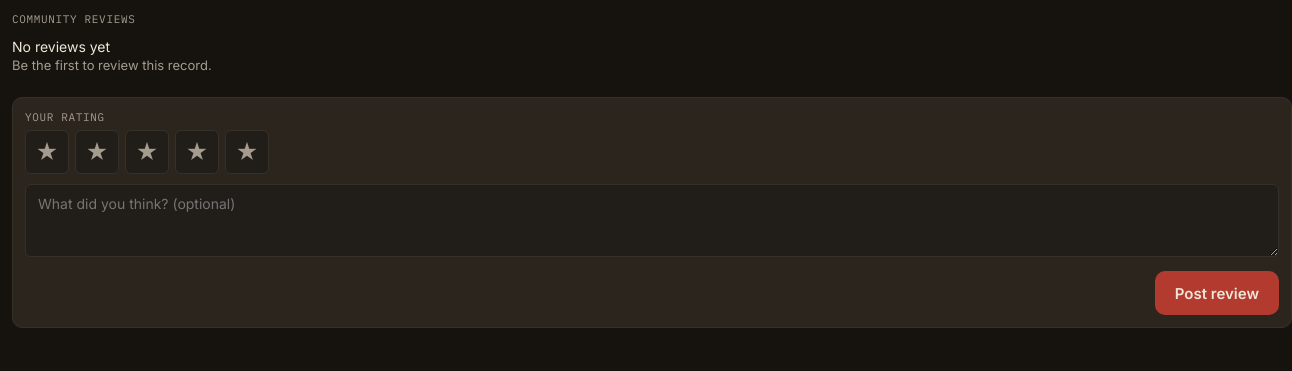
it: ReviewsSection › shows an inline, code-mapped error when the upsert rejects
Click the button named "Rate 5 out of 5".
click(247, 152)  # box left=225, top=130, right=269, bottom=174
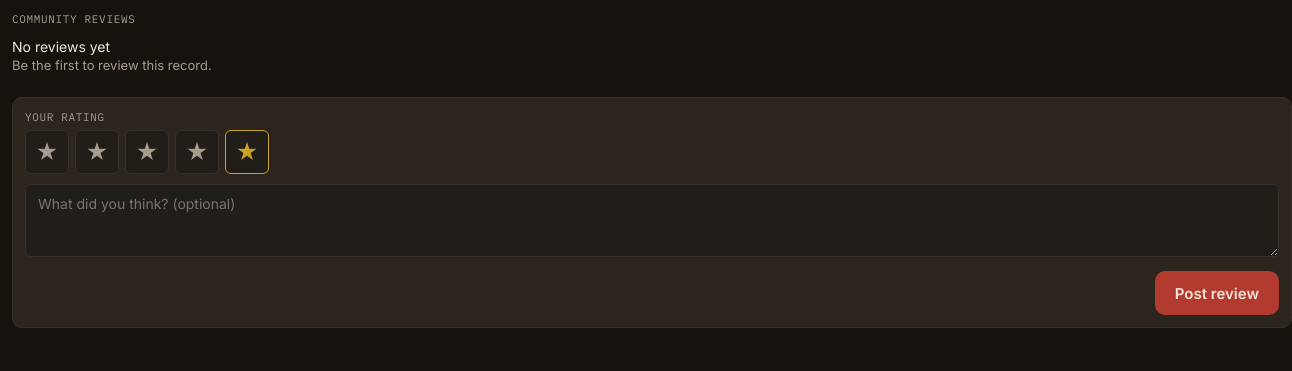
Click the button "Post review".
click(1217, 293)  # box left=1155, top=271, right=1279, bottom=315
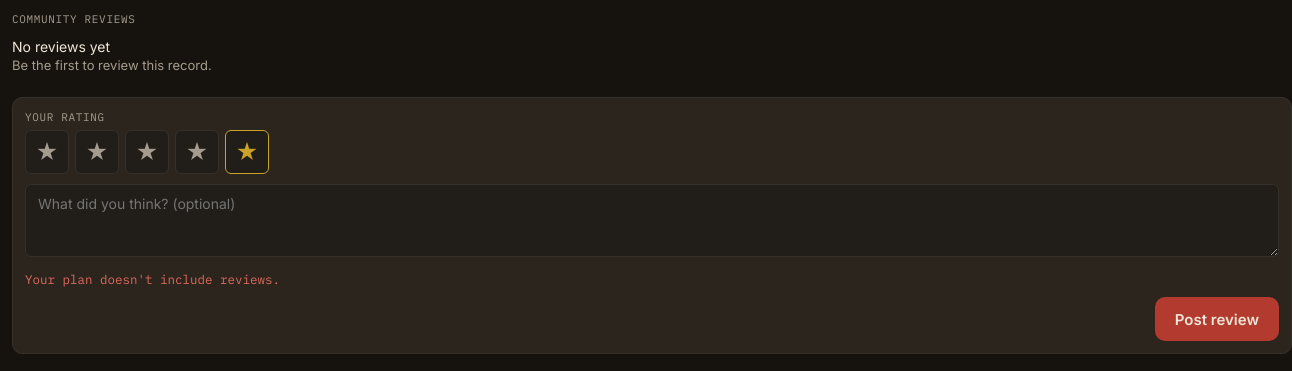
Now the message reads "Your plan doesn't include reviews.", box left=25, top=271, right=280, bottom=287
